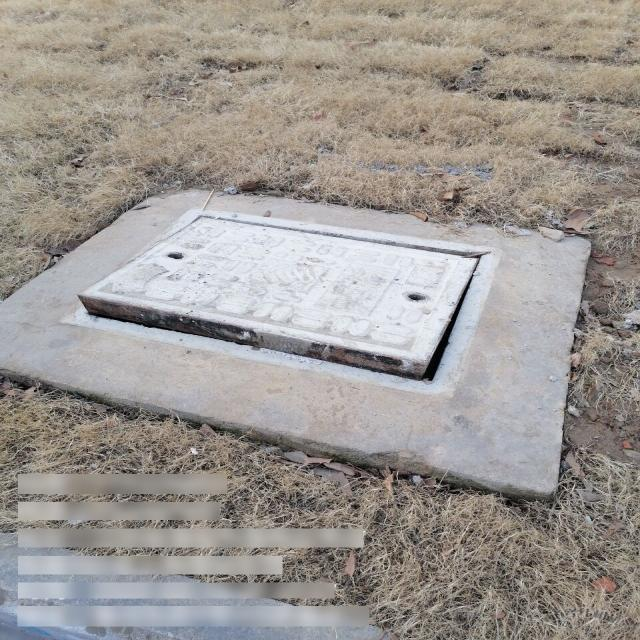Faulty: (52, 208, 502, 394)
